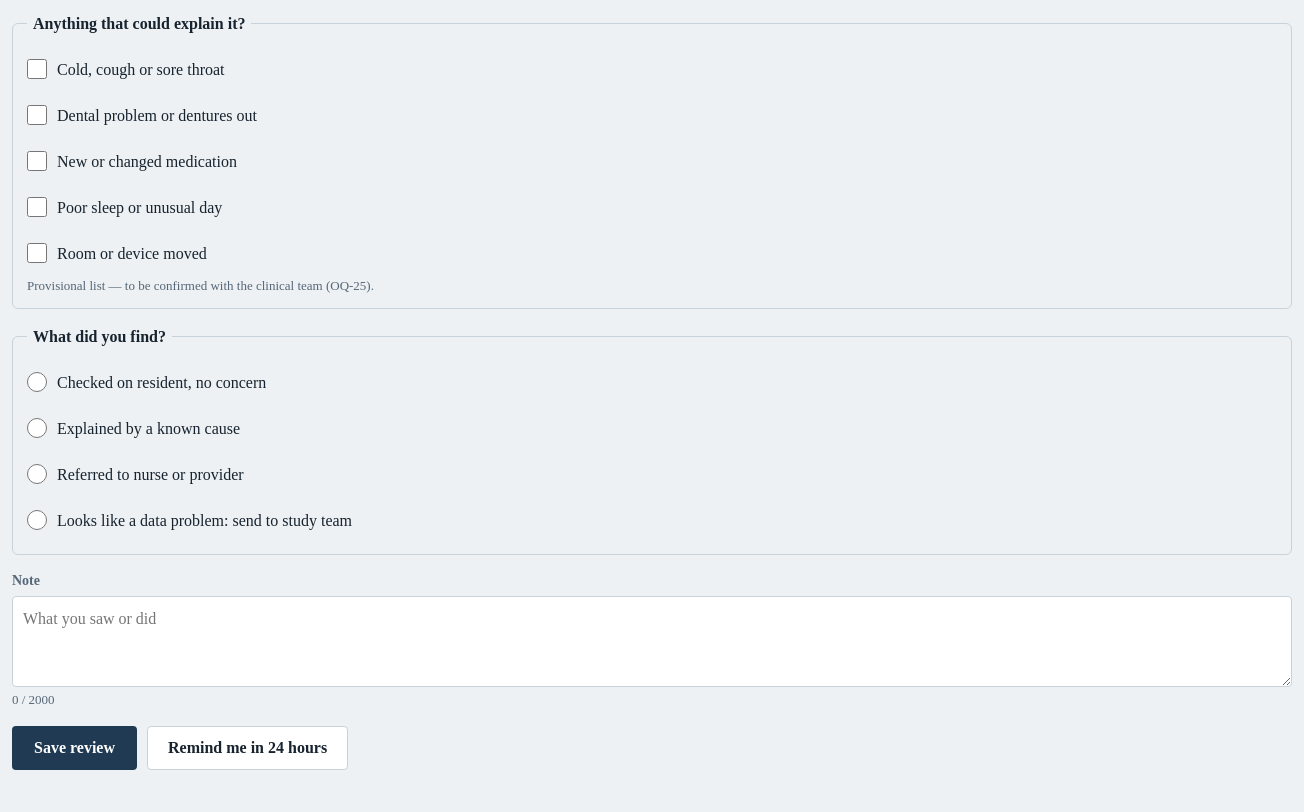
Test: AlertReviewForm › sets a reminder with an empty body and announces it; no review is created
Click the button "Remind me in 24 hours" at [248, 748], box [147,726,348,770]
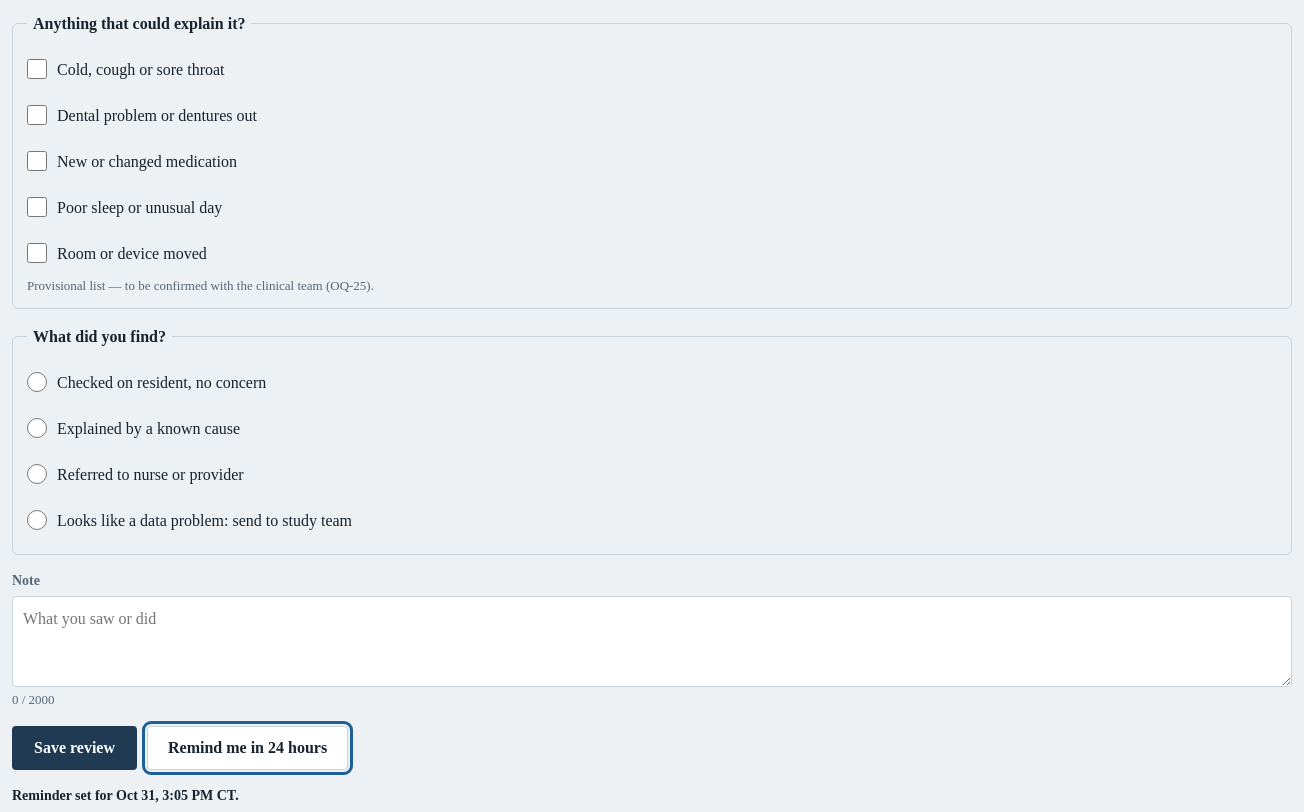
Result: the text "Reminder set for Oct 31, 3:05 PM CT." is shown at [12,788,239,803]
